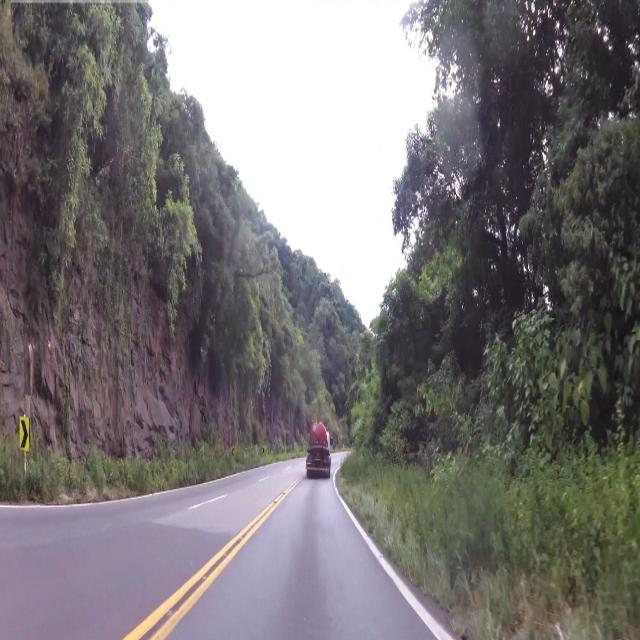Del: (18, 409, 32, 455)
